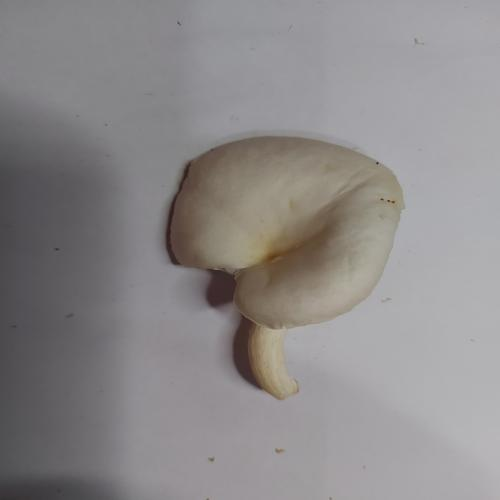Oyster Mushroom: (167, 135, 406, 401)
